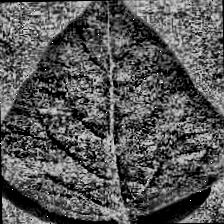spider mites: (0, 0, 224, 222)
